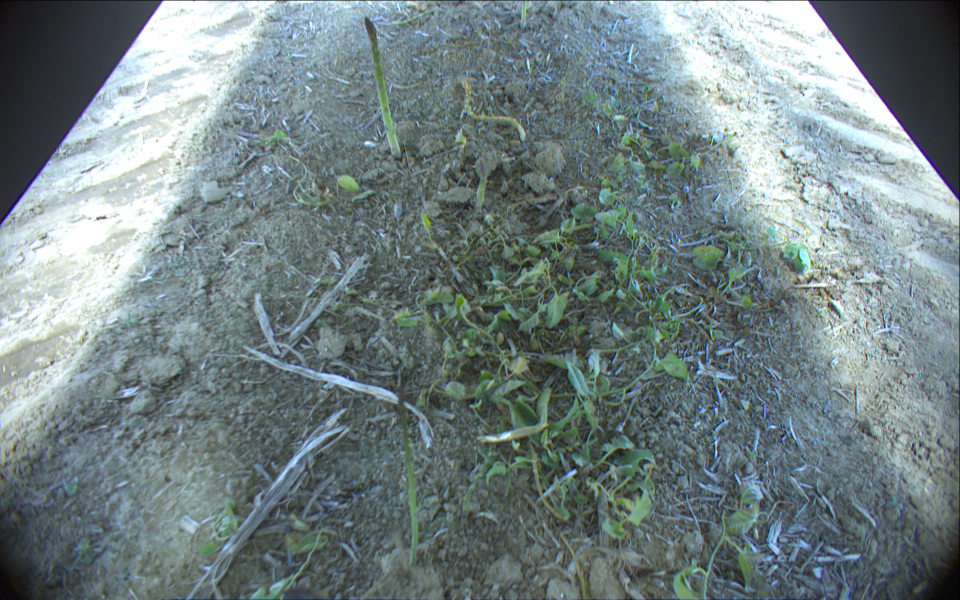aspa: (364, 16, 400, 158), (396, 371, 421, 564), (461, 81, 526, 140), (472, 158, 488, 212), (520, 1, 529, 27)
